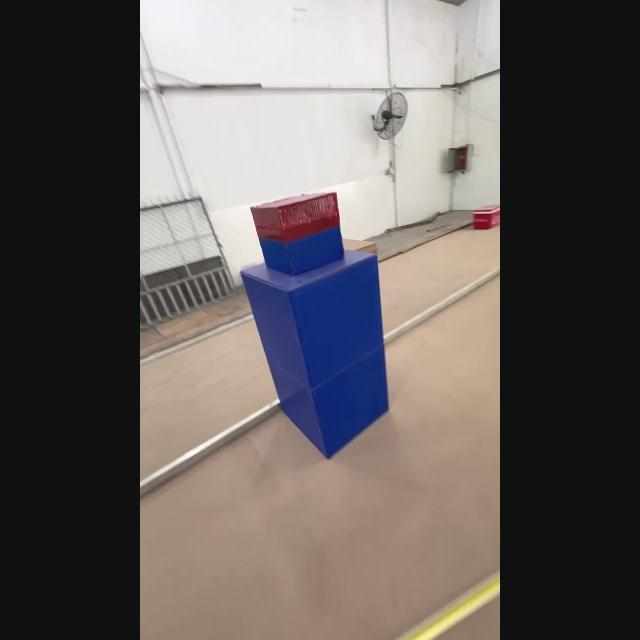sky_block: (250, 192, 344, 274)
